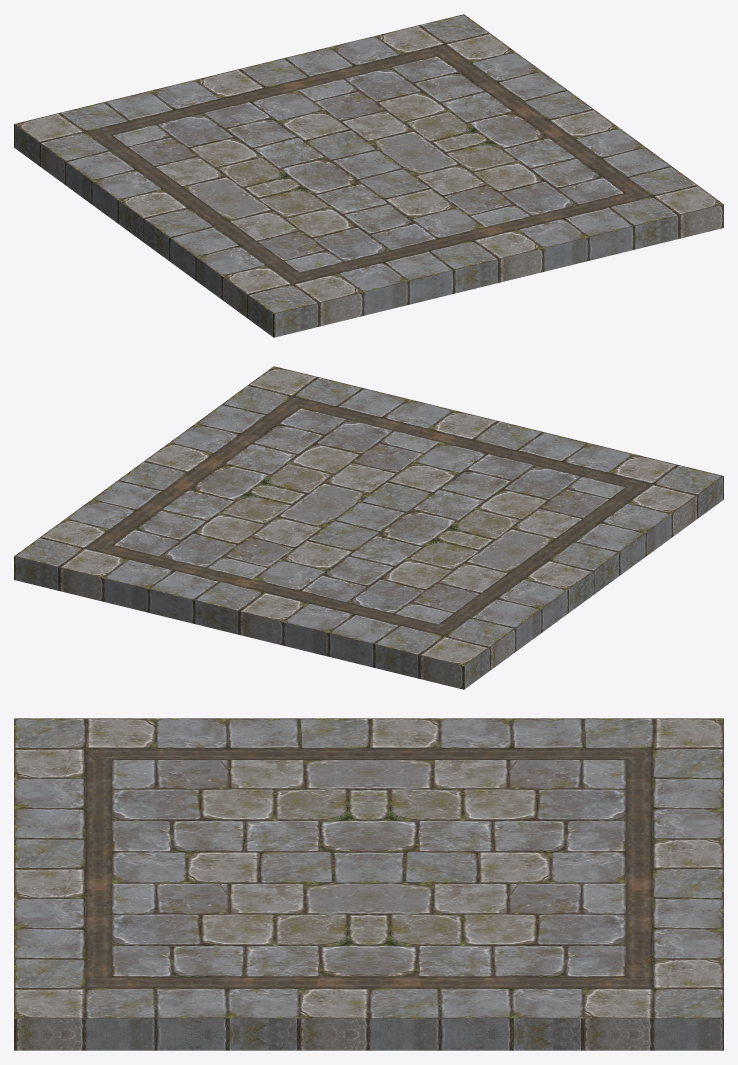
3 views of the same model, one above another, from view 1: azimuth 30°, elevation 25°; view 2: azimuth 150°, elevation 25°; view 3: azimuth 270°, elevation 25° (orthographic). The views are drawn at different scales.
Parts seen in each view (by area): view 1: SM_Dowdun_Tower_Floor_10x10_01_LOD0; view 2: SM_Dowdun_Tower_Floor_10x10_01_LOD0; view 3: SM_Dowdun_Tower_Floor_10x10_01_LOD0.
Boxes of the visible parts, x1,y1,x2,y2 form: SM_Dowdun_Tower_Floor_10x10_01_LOD0: (14,14,723,337); SM_Dowdun_Tower_Floor_10x10_01_LOD0: (14,366,723,689); SM_Dowdun_Tower_Floor_10x10_01_LOD0: (14,718,723,1050).
Bounding box in the file's own units: 10 × 0.5001 × 10.
2 materials, 2 textured.
